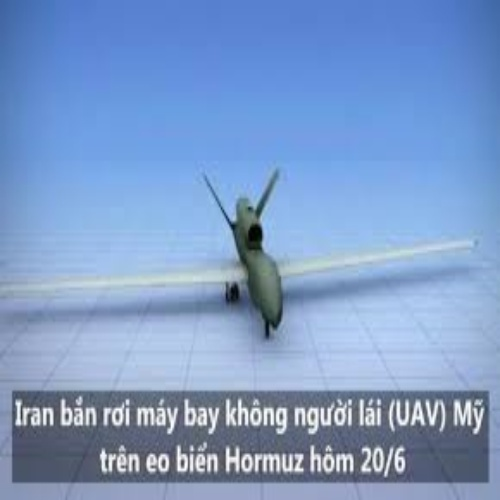uav: (1, 166, 480, 339)
